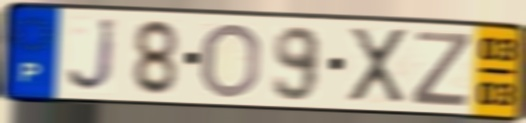8: (131, 17, 183, 98)
9: (270, 24, 323, 102)
J: (64, 16, 119, 96)
O: (197, 20, 264, 101)
X: (346, 25, 409, 105)
Z: (408, 28, 475, 109)
